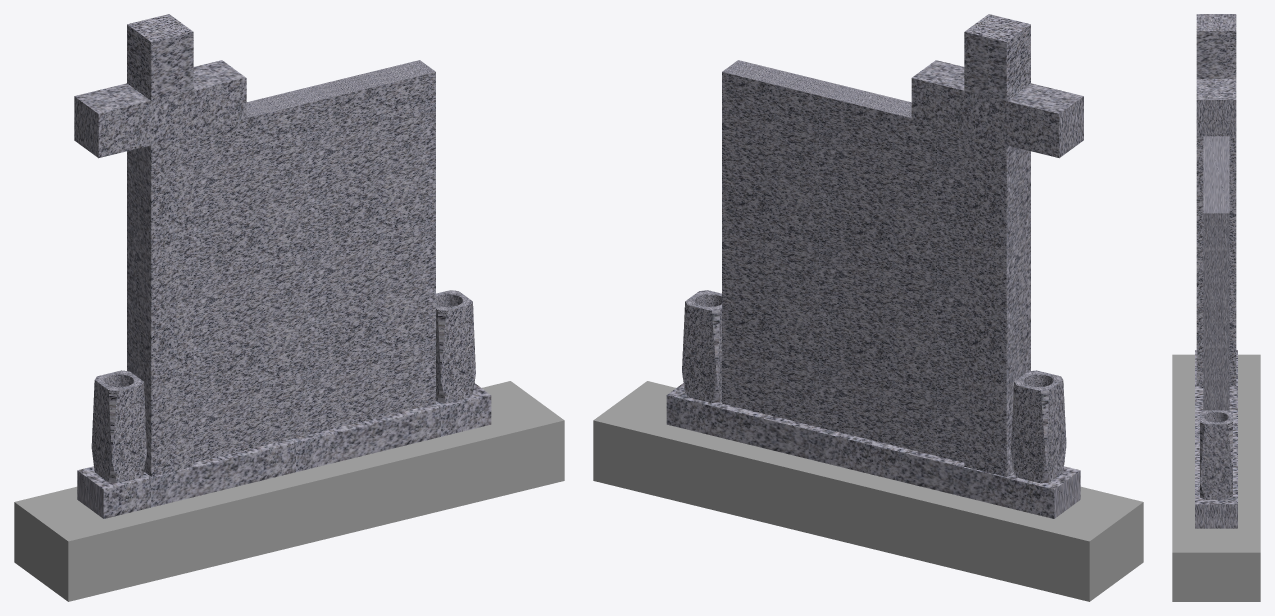
File: monument-51-gri-deschis.glb
3 views of the same model, side by side, from view 1: azimuth 30°, elevation 25°; view 2: azimuth 150°, elevation 25°; view 3: azimuth 270°, elevation 25° (orthographic). The views are drawn at different scales.
Parts seen in each view (by area): view 1: Box (×3), Box 3, Box 1, Group, Box 2; view 2: Box (×3), Box 3, Box 1, Group, Box 2; view 3: Box (×3), Group, Box 3, Box 2, Box 1.
Part boxes in pixels (x1,y1,x2,y2): Box (×3): (14,60,564,601); Box 3: (77,383,491,518); Box 1: (74,60,246,158); Group: (91,290,475,483); Box 2: (127,14,193,100); Box (×3): (593,60,1143,601); Box 3: (666,383,1080,518); Box 1: (911,60,1083,158); Group: (682,290,1066,483); Box 2: (964,14,1030,100); Box (×3): (1172,136,1260,601); Group: (1200,410,1232,499); Box 3: (1195,350,1237,528); Box 2: (1196,14,1236,78); Box 1: (1196,79,1236,136).
Bounding box in the file's own units: 141 × 142 × 26.57.
8 materials, 7 textured.
